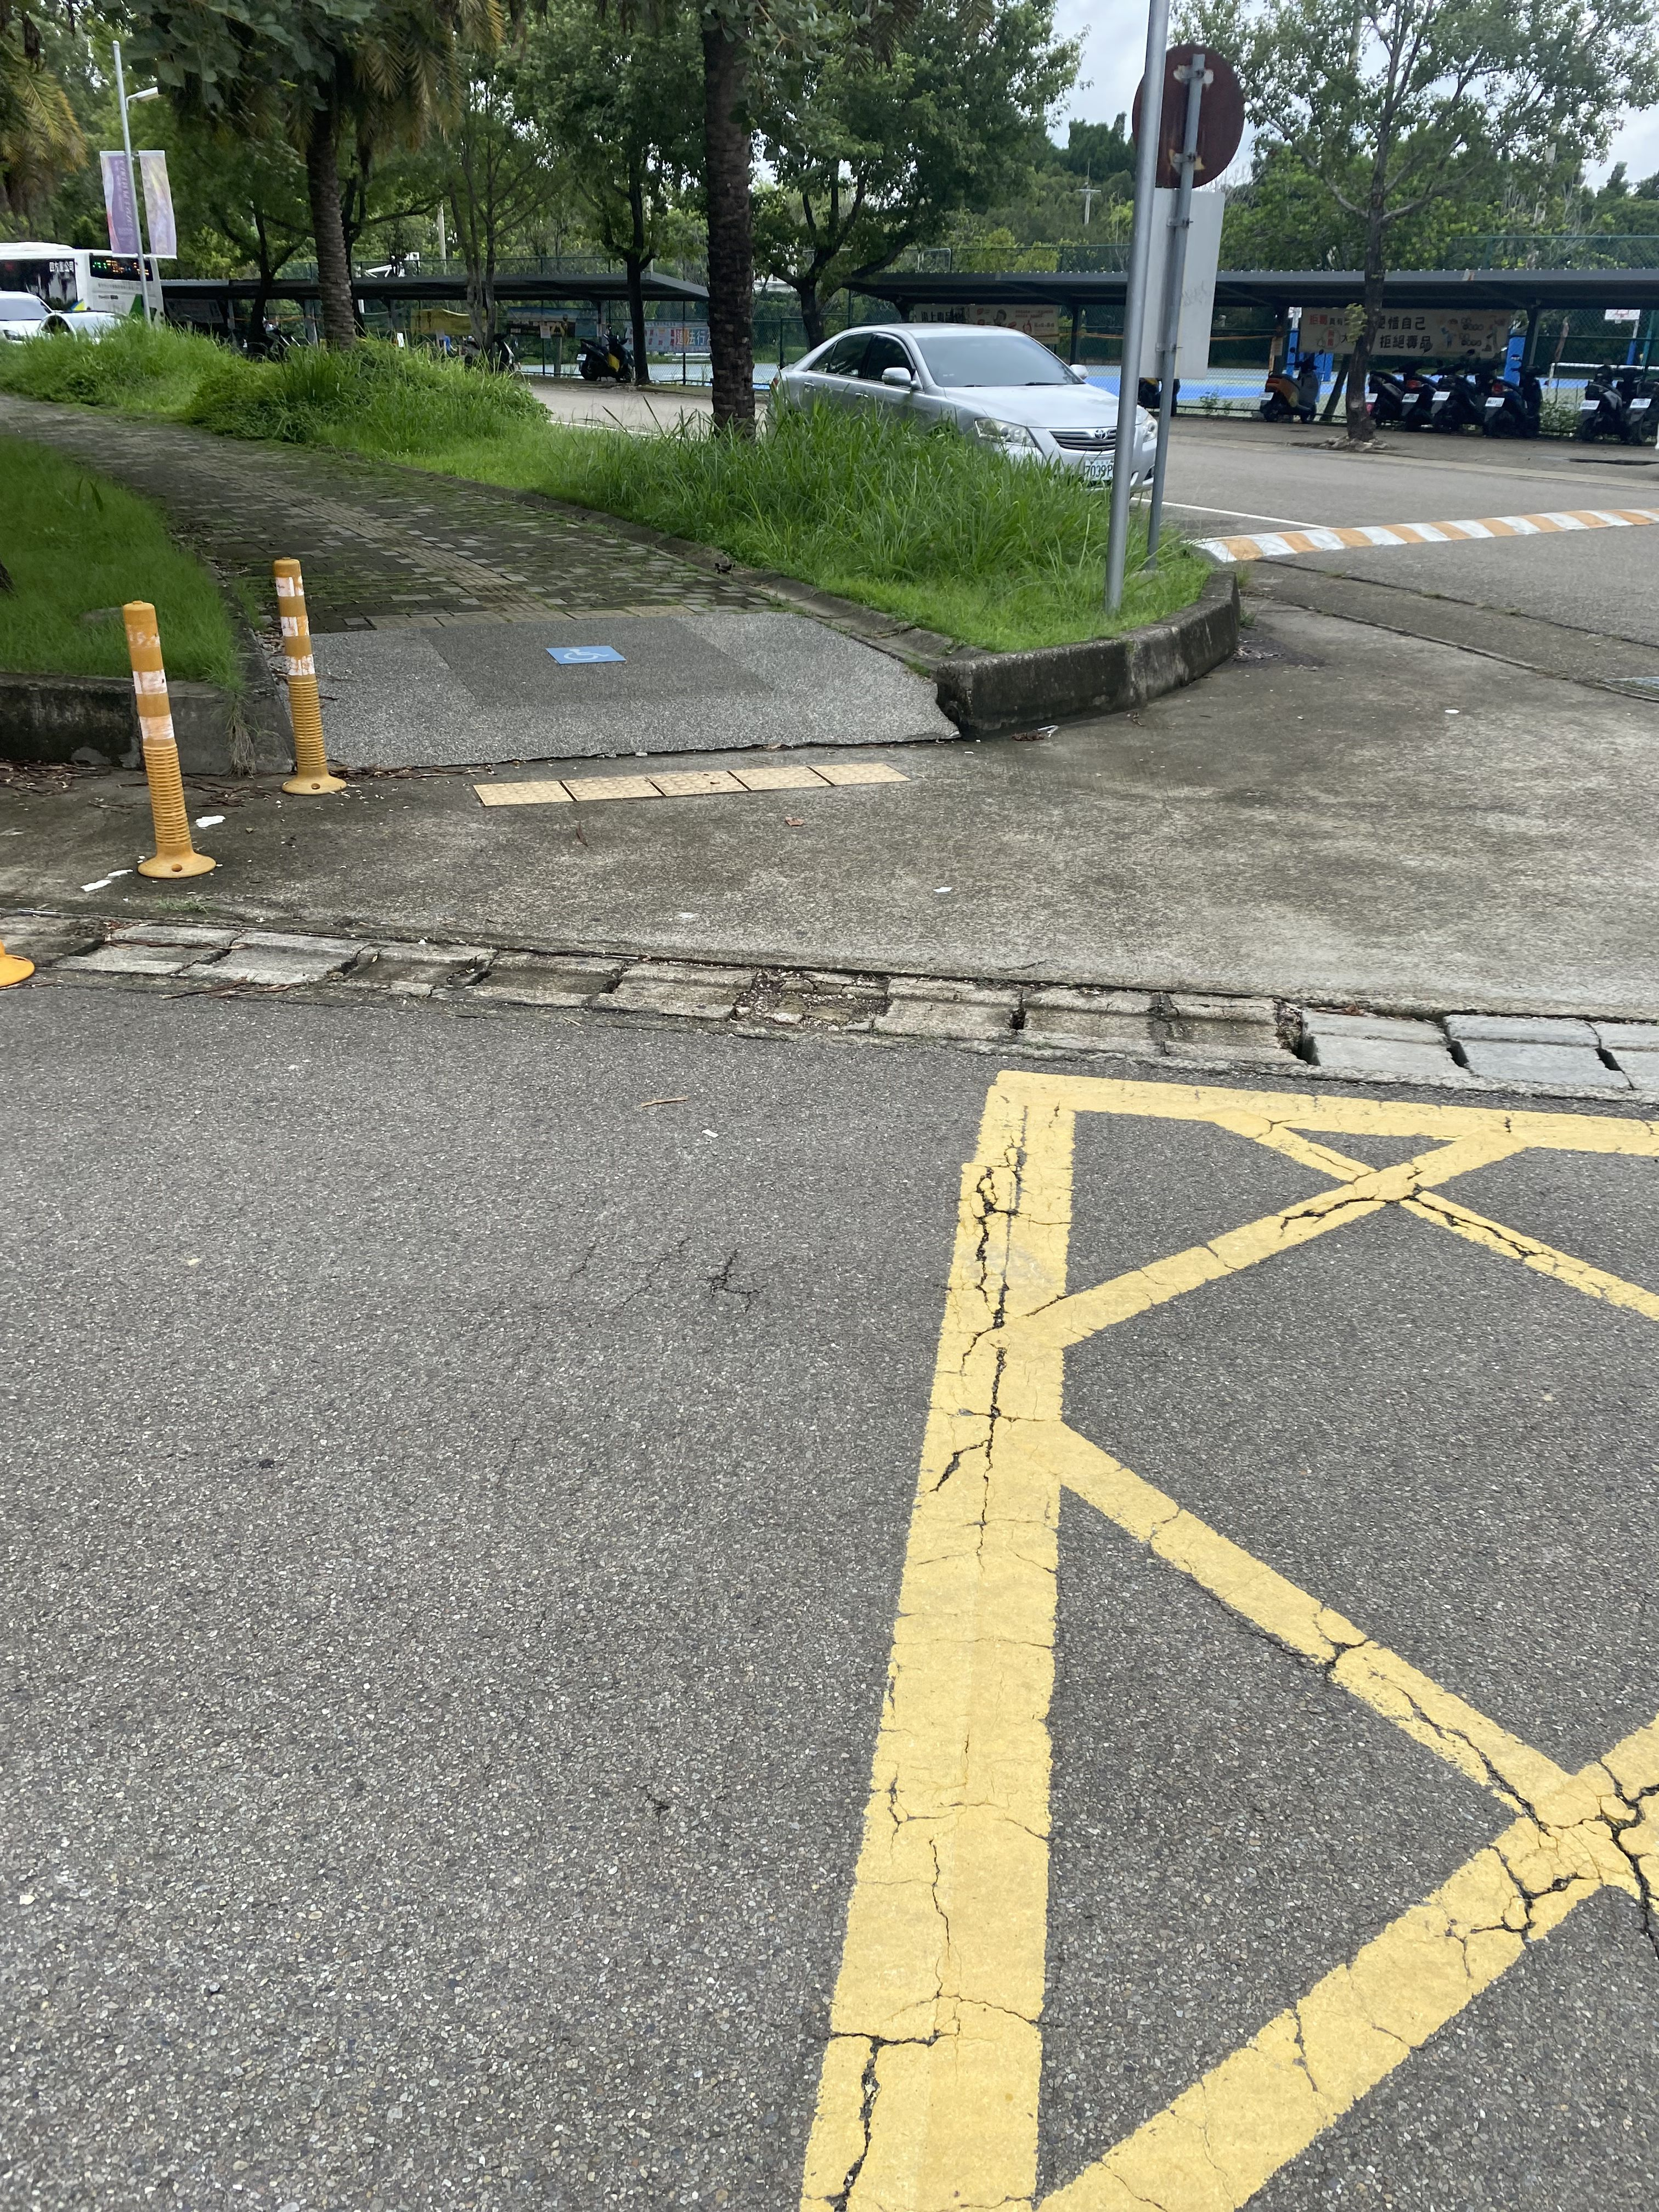sidewalk: (51, 402, 988, 834)
